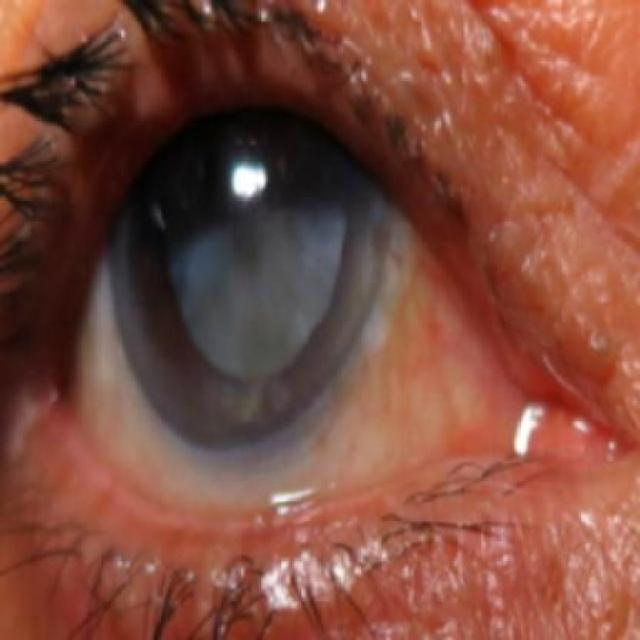Cataract: (106, 0, 392, 444)
